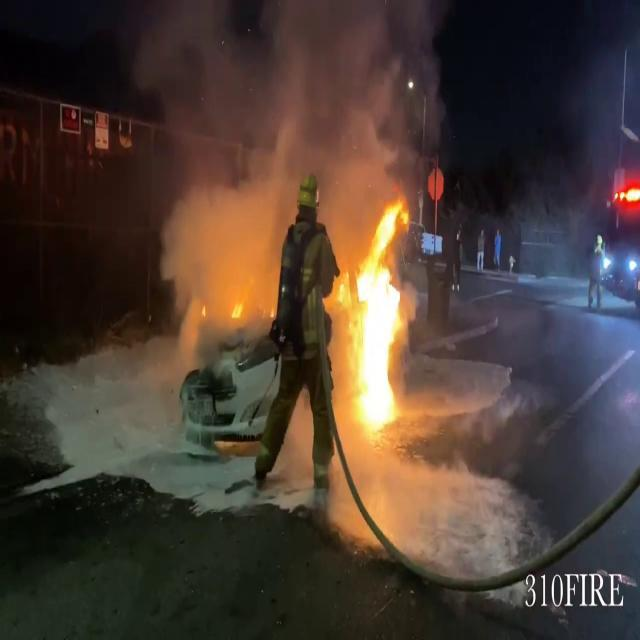Fire: (342, 195, 416, 436)
Smoke: (128, 0, 450, 298)
